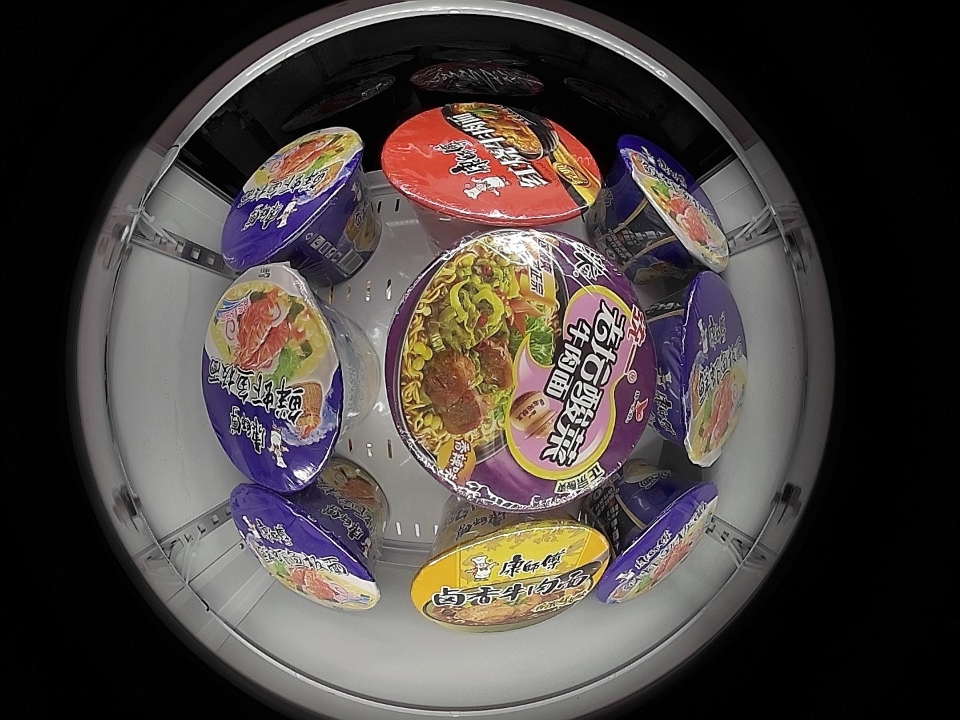hongshaoniurou: (381, 104, 604, 231)
laotansuancai: (383, 228, 657, 511)
luxiangniurou: (410, 514, 611, 631)
xianxiayuban: (202, 264, 353, 492), (221, 127, 365, 269), (230, 485, 379, 612), (655, 270, 747, 467), (610, 133, 729, 274), (598, 476, 719, 605)
